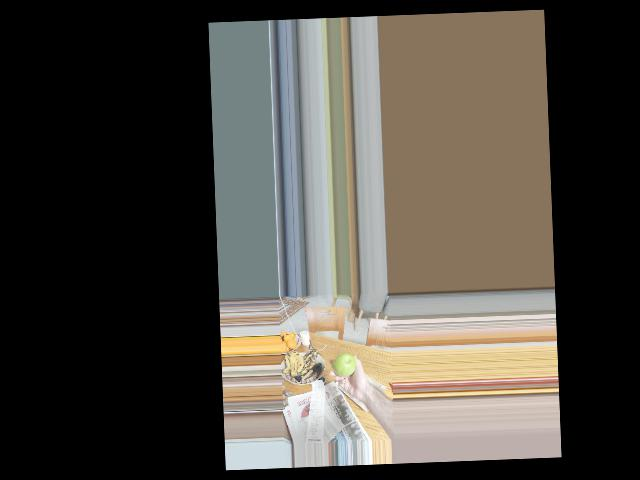apple: (333, 351, 357, 377)
